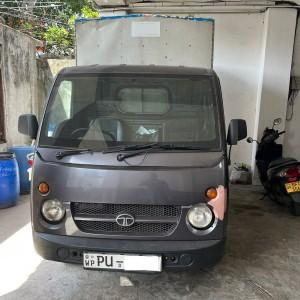motorbike: (246, 117, 300, 217)
truck: (18, 12, 247, 273)
